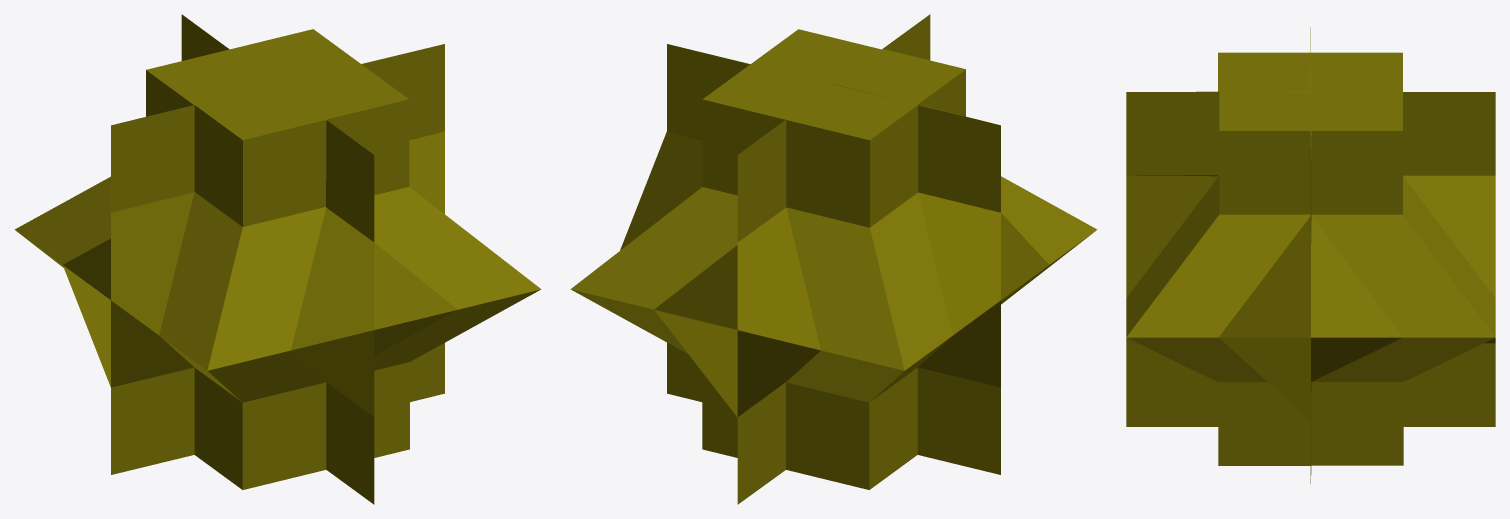
The model's file is skin_2_2.fbx.
3 views of the same model, side by side, from view 1: azimuth 30°, elevation 25°; view 2: azimuth 150°, elevation 25°; view 3: azimuth 270°, elevation 25° (orthographic). The views are drawn at different scales.
Visible parts, largest first — view 1: Cube; view 2: Cube; view 3: Cube.
Part boxes in pixels (x1,y1,x2,y2): Cube: (14, 14, 541, 504); Cube: (570, 14, 1097, 504); Cube: (1126, 27, 1495, 483).
Size of the model in its own units: 200 by 200 by 200.
